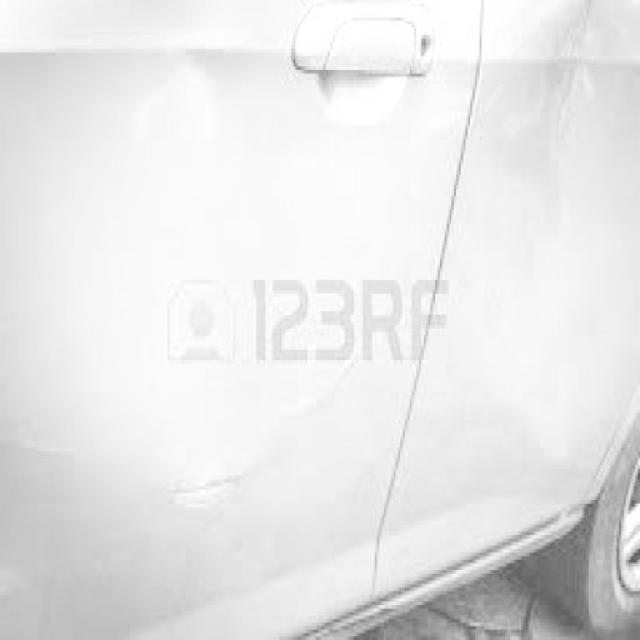car damage: (0, 366, 360, 512), (529, 0, 629, 160), (500, 355, 631, 471), (125, 16, 233, 143)
